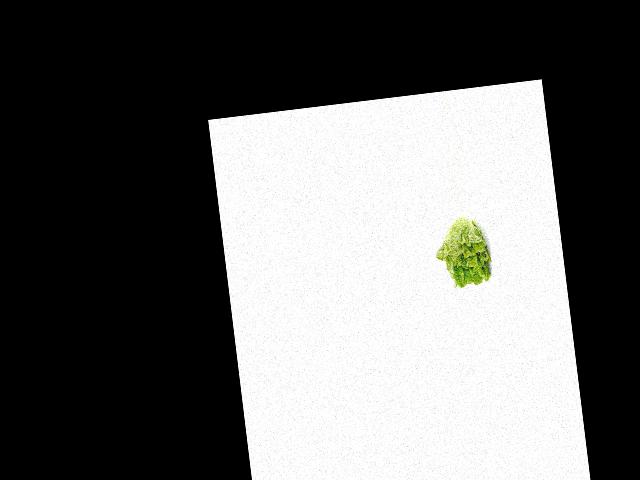lettuce: (433, 214, 497, 290)
